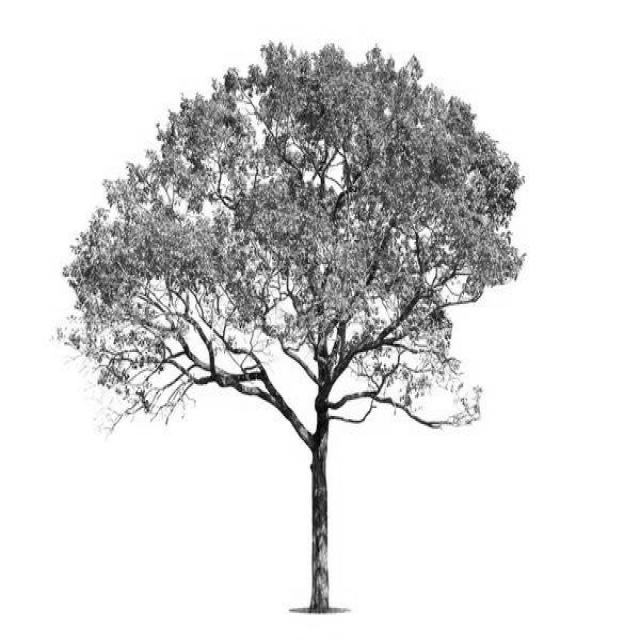Tree: (65, 43, 524, 612)
